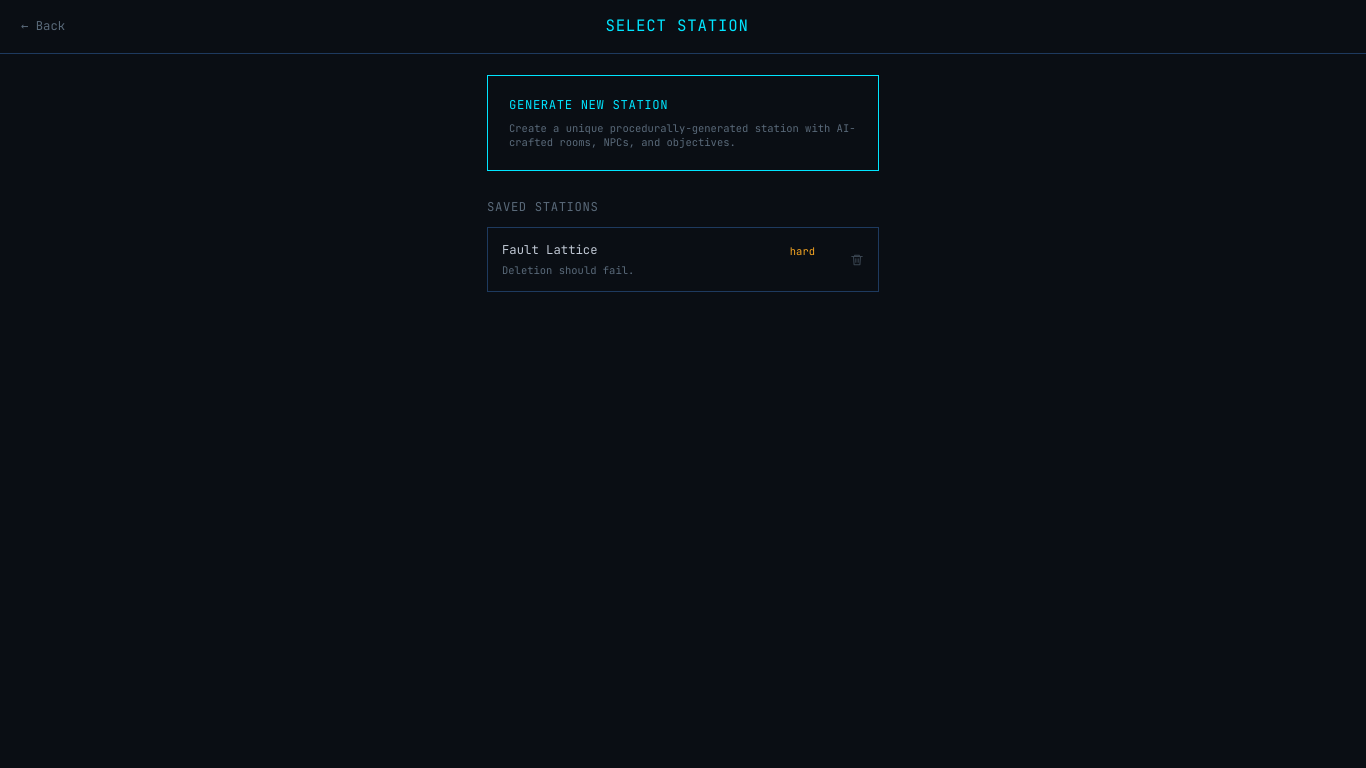
Test: StationPickerScreen deletion contracts › [E] keeps the confirmation dialog open and shows an inline error when deletion fails
What coordinates should you click on to do the following:
click the button named "delete fault lattice"
I would click on:
 (857, 260)
Its box is [836,228,878,291].
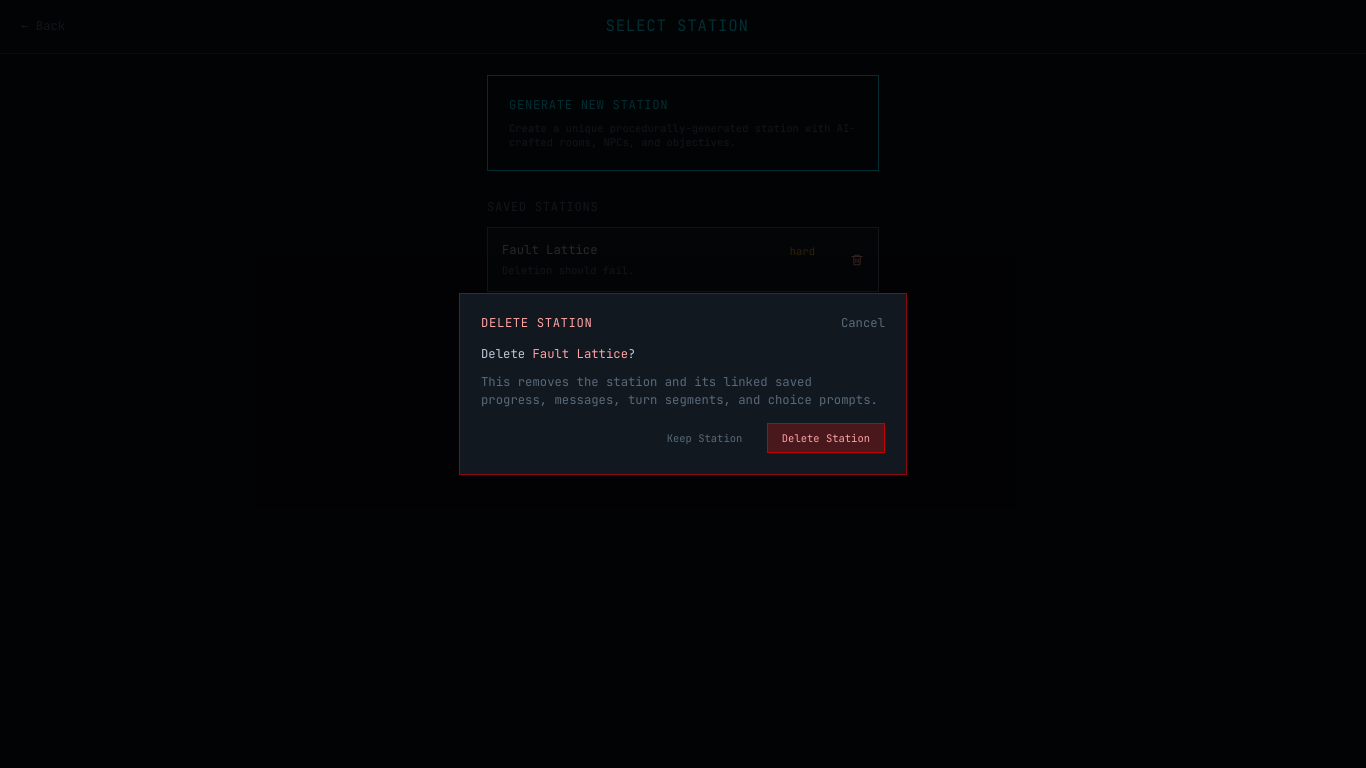
What coordinates should you click on to do the following:
click the button "Delete Station"
I would click on:
 (826, 438)
Its box is [767,423,885,453].
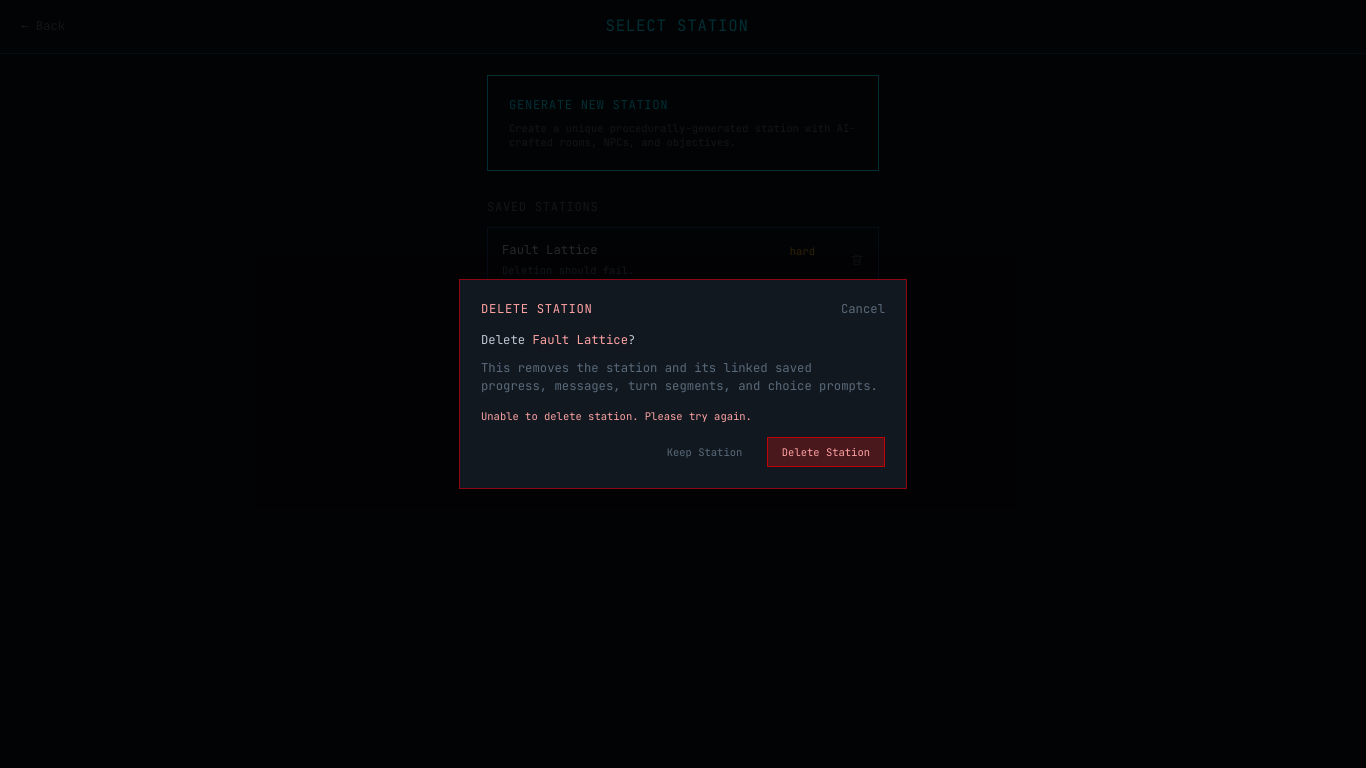
Expected: the dialog "Delete Station" is shown, [459,279,907,489]
Expected: the text "Unable to delete station. Please try again." is shown, [481,409,752,423]
